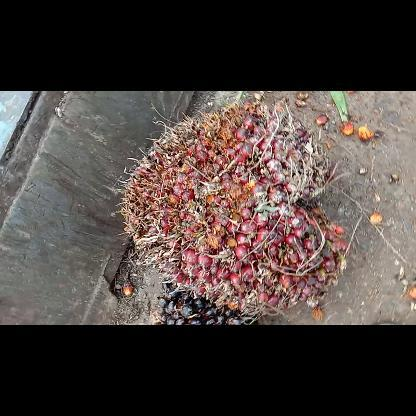TBS abnormal: (150, 282, 260, 324)
TBS masak: (119, 101, 350, 311)
